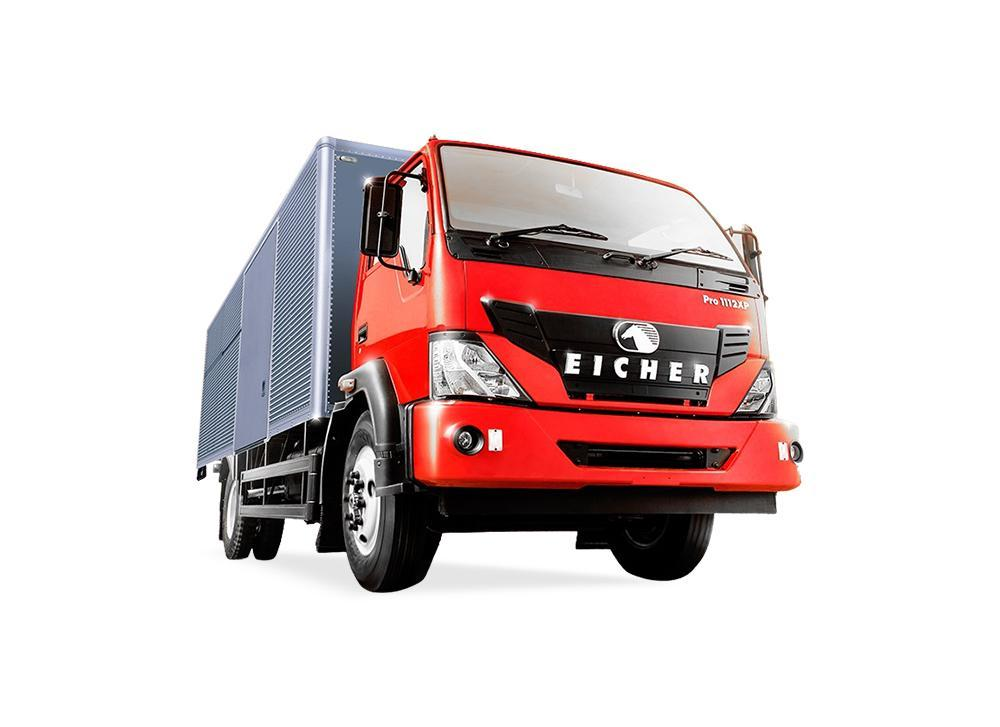truck: (196, 136, 802, 593)
